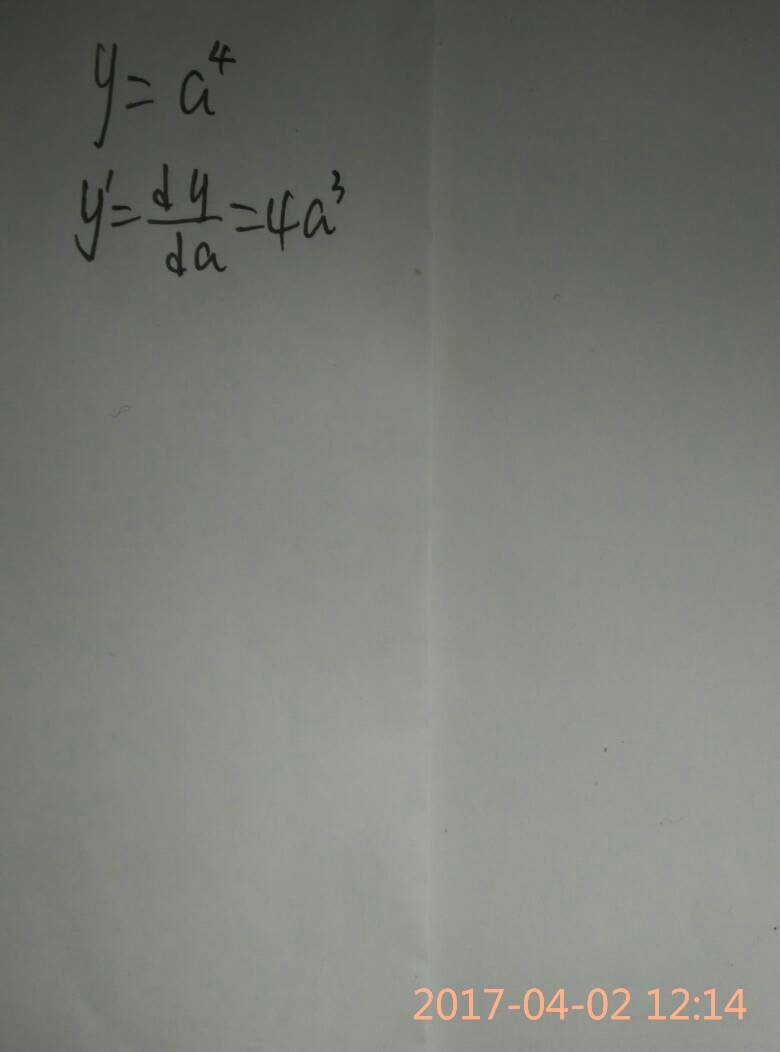cube: (323, 160, 349, 207)
division: (143, 208, 224, 233)
